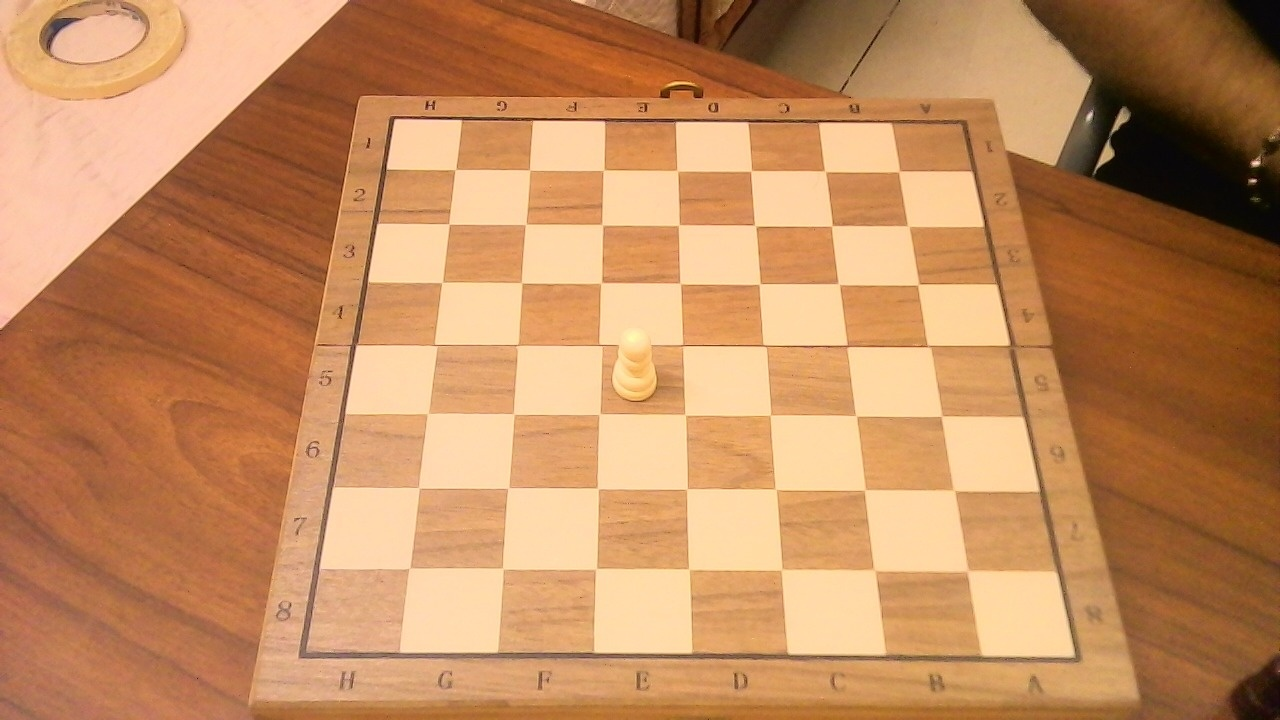P: (606, 317, 664, 404)
